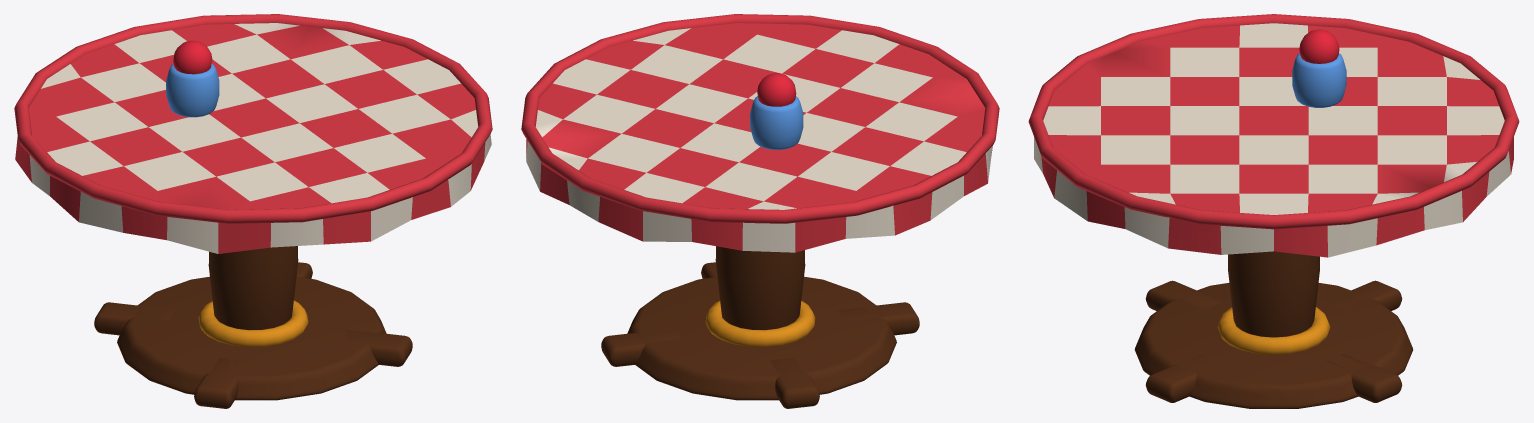
Rendered from table_round_A_small_decorated.gltf.
The picture shows the model from 3 angles, left to right: view 1: azimuth 30°, elevation 25°; view 2: azimuth 150°, elevation 25°; view 3: azimuth 270°, elevation 25°; orthographic projection. The views are drawn at different scales.
Parts seen in each view (by area): view 1: TableBaseDisc; view 2: TableBaseDisc; view 3: TableBaseDisc.
Part boxes in pixels (<box>): TableBaseDisc: <box>14,14,492,408</box>; TableBaseDisc: <box>521,14,999,408</box>; TableBaseDisc: <box>1028,14,1519,408</box>.
Bounding box in the file's own units: 0.974 × 0.66 × 0.974.
